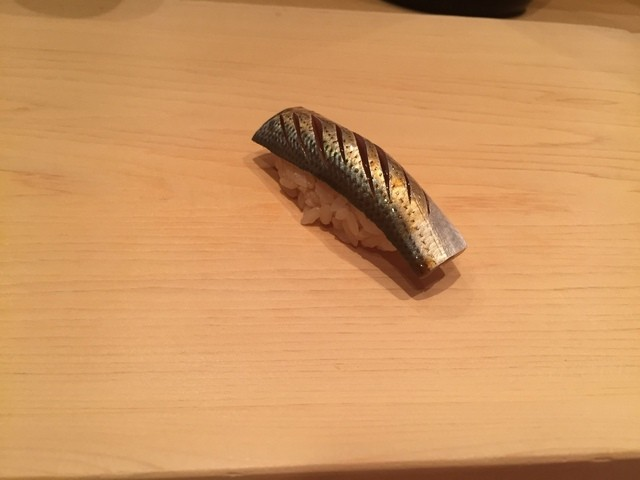spotted-shad: (249, 103, 470, 281)
